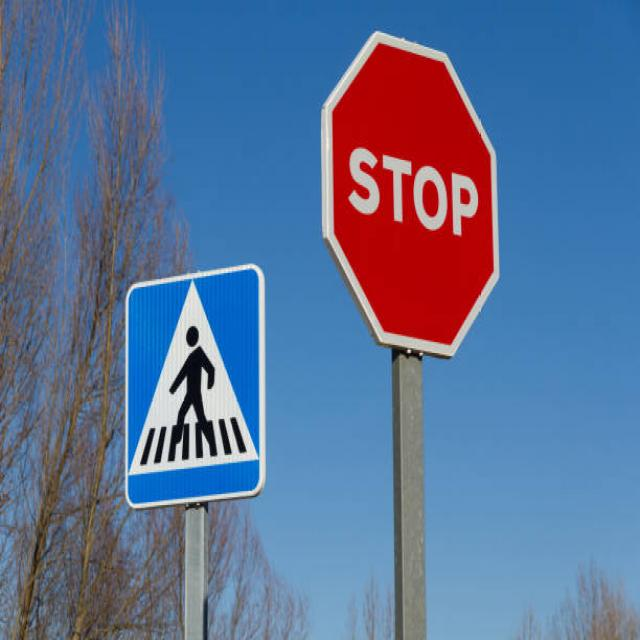crosswalk: (108, 264, 274, 511)
